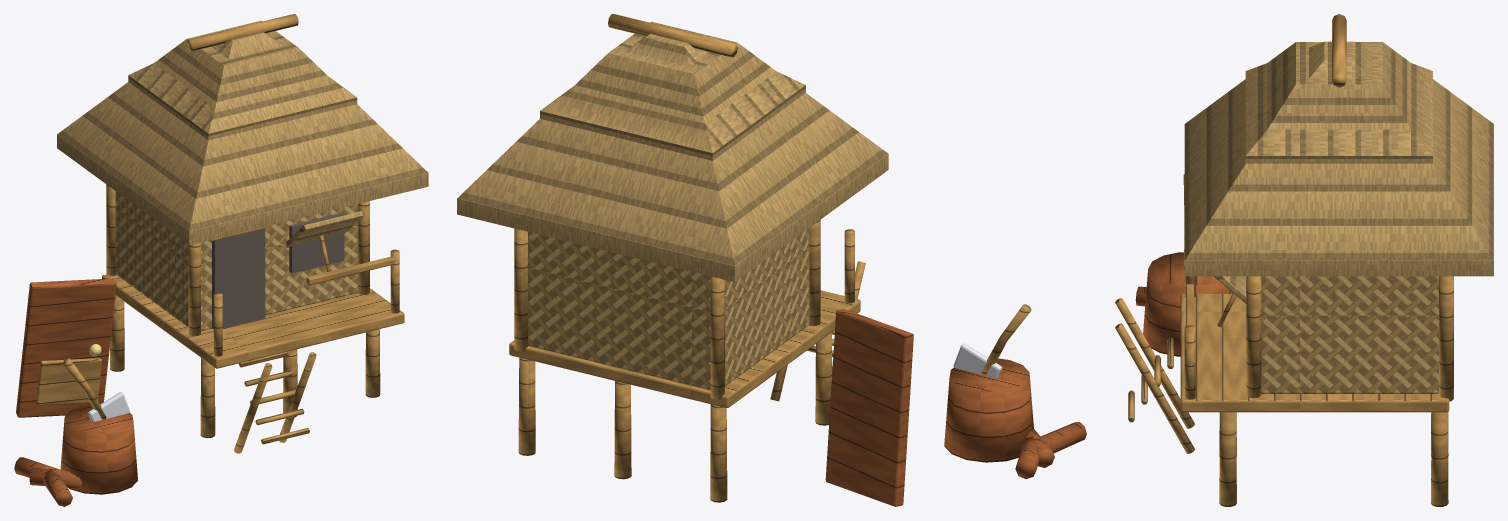
File: map4.glb
3 renders of one model, left to right at view 1: azimuth 30°, elevation 25°; view 2: azimuth 150°, elevation 25°; view 3: azimuth 270°, elevation 25°, orthographic. The views are drawn at different scales.
Visible parts, largest first — view 1: Batch_NipaRoof, Batch_Bamboo, Batch_HardwoodDoor, Batch_SawaliWall, Batch_InteriorDark, Batch_ForgedSteel; view 2: Batch_NipaRoof, Batch_SawaliWall, Batch_HardwoodDoor, Batch_Bamboo, Batch_ForgedSteel; view 3: Batch_NipaRoof, Batch_Bamboo, Batch_SawaliWall, Batch_HardwoodDoor.
Boxes of the visible parts, x1,y1,x2,y2 form: Batch_NipaRoof: (57, 20, 428, 247); Batch_Bamboo: (36, 14, 404, 453); Batch_HardwoodDoor: (14, 278, 137, 506); Batch_SawaliWall: (115, 191, 358, 331); Batch_InteriorDark: (212, 212, 344, 329); Batch_ForgedSteel: (88, 392, 129, 421); Batch_NipaRoof: (457, 21, 888, 282); Batch_SawaliWall: (528, 228, 809, 390); Batch_HardwoodDoor: (825, 309, 1086, 506); Batch_Bamboo: (509, 14, 1031, 502); Batch_ForgedSteel: (953, 343, 1002, 377); Batch_NipaRoof: (1184, 41, 1493, 303); Batch_Bamboo: (1115, 14, 1453, 506); Batch_SawaliWall: (1261, 276, 1438, 393); Batch_HardwoodDoor: (1135, 252, 1232, 356).
Bounding box in the file's own units: 3.89 × 3.44 × 2.79.
7 materials, 4 textured.
